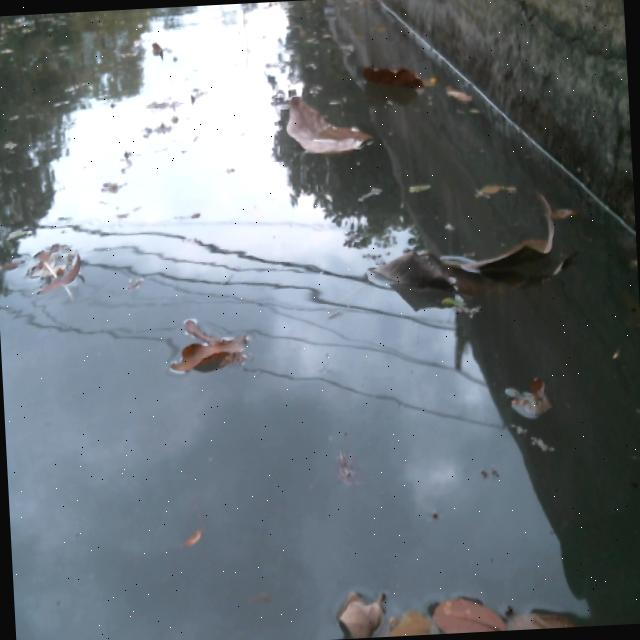Big-leaf: (442, 179, 573, 298), (279, 83, 379, 164), (361, 233, 469, 306), (352, 52, 435, 101)
Small-leaf: (168, 312, 256, 383), (322, 565, 390, 640), (24, 230, 93, 300), (426, 578, 510, 635), (370, 599, 444, 638), (505, 369, 555, 423), (506, 605, 584, 631), (470, 170, 526, 206), (149, 39, 172, 62)
